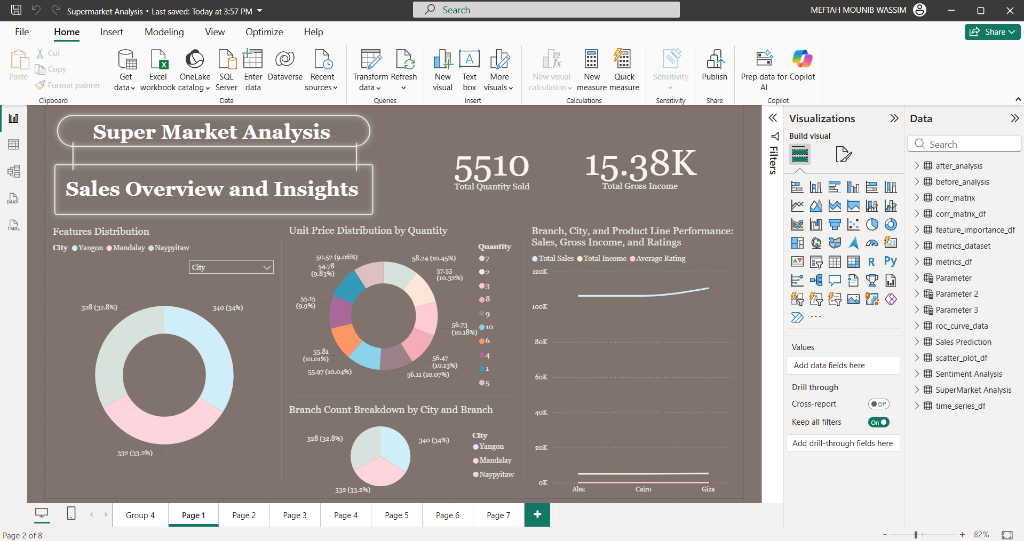

The dashboard page shown, as its layout file describes it:
{"tool":"powerbi","page":{"name":"Page 1","canvas":[1280,720],"ordinal":1},"visuals":[{"type":"shape","box":[7,98.1,602.9,111.4],"z":0,"group":"g4"},{"type":"lineChart","title":"Branch, City, and Product Line Performance: Sales, Gross Income, and Ratings","fields":{"Category":["SuperMarket Analysis.Branch","SuperMarket Analysis.City","SuperMarket Analysis.Product line"],"Y":["Sum(SuperMarket Analysis.Sales)","Sum(SuperMarket Analysis.gross income)","Avg(SuperMarket Analysis.Rating)"]},"box":[887.1,220,381.4,500],"z":0},{"type":"card","fields":{"Values":["Sum(SuperMarket Analysis.gross income)"]},"box":[972.9,44.3,234.3,127.1],"z":1000},{"type":"textbox","box":[26.5,126.2,557.8,56.4],"z":1000,"group":"g4"},{"type":"card","fields":{"Values":["Sum(SuperMarket Analysis.Quantity)"]},"box":[701.4,47.1,234.3,122.9],"z":2000},{"type":"group","id":"g1","title":"Group 3","box":[7,8.1,602.9,201.4],"z":3000},{"type":"pieChart","title":"Branch Count Breakdown by City and Branch","fields":{"Category":["SuperMarket Analysis.City"],"Y":["CountNonNull(SuperMarket Analysis.Branch)"],"Series":["SuperMarket Analysis.Branch"]},"box":[441,547.2,431.4,171.4],"z":3000,"group":"g3"},{"type":"donutChart","title":"Unit Price Distribution by Quantity","fields":{"Category":["SuperMarket Analysis.Quantity"],"Y":["Avg(SuperMarket Analysis.Unit price)"]},"box":[441,218.6,431.4,314.3],"z":4000,"group":"g3"},{"type":"group","id":"g2","title":"Group 2","box":[8.6,221.4,420,497.1],"z":4000},{"type":"donutChart","title":"Features Distribution","fields":{"Category":["SuperMarket Analysis.City"],"Y":["CountNonNull(SuperMarket Analysis.Invoice ID)"]},"box":[8.6,221.4,419.6,497.1],"z":5000,"group":"g2"},{"type":"shape","box":[428.6,247.1,10,444.3],"z":5000},{"type":"group","id":"g3","title":"Group 4","box":[441,218.6,431.4,500],"z":6000},{"type":"slicer","fields":{"Values":["Parameter 2.Parameter"]},"box":[253,273.8,175.6,54.3],"z":6000,"group":"g2"},{"type":"shape","box":[11.3,8.1,592.9,77.1],"z":7000,"group":"g1"},{"type":"shape","box":[874.3,247.1,10,444.3],"z":7000},{"type":"textbox","box":[48.4,21,512.9,64.3],"z":8000,"group":"g1"},{"type":"shape","box":[454.3,525.7,405.7,12.9],"z":8000},{"type":"group","id":"g4","title":"Group 1","box":[7,98.1,602.9,111.4],"z":9000,"group":"g1"},{"type":"shape","box":[41.3,59.5,14.3,67.1],"z":10000,"group":"g1"},{"type":"shape","box":[561.3,61,15.7,67.1],"z":11000,"group":"g1"}]}

Visuals, with their boxes on the page's 1280x720 design canvas (x1, y1, x2, y2). These are canvas units, not pixel positions in the 1024x541 screenshot, which may show the page scaled, cropped or inside an application window:
shape: 7:98:610:210
"Branch, City, and Product Line Performance: Sales, Gross Income, and Ratings" lineChart: 887:220:1268:720
card - Sum(SuperMarket Analysis.gross income): 973:44:1207:171
textbox: 26:126:584:183
card - Sum(SuperMarket Analysis.Quantity): 701:47:936:170
"Group 3" group: 7:8:610:210
"Branch Count Breakdown by City and Branch" pieChart: 441:547:872:719
"Unit Price Distribution by Quantity" donutChart: 441:219:872:533
"Group 2" group: 9:221:429:718
"Features Distribution" donutChart: 9:221:428:718
shape: 429:247:439:691
"Group 4" group: 441:219:872:719
slicer - Parameter 2.Parameter: 253:274:429:328
shape: 11:8:604:85
shape: 874:247:884:691
textbox: 48:21:561:85
shape: 454:526:860:539
"Group 1" group: 7:98:610:210
shape: 41:60:56:127
shape: 561:61:577:128
